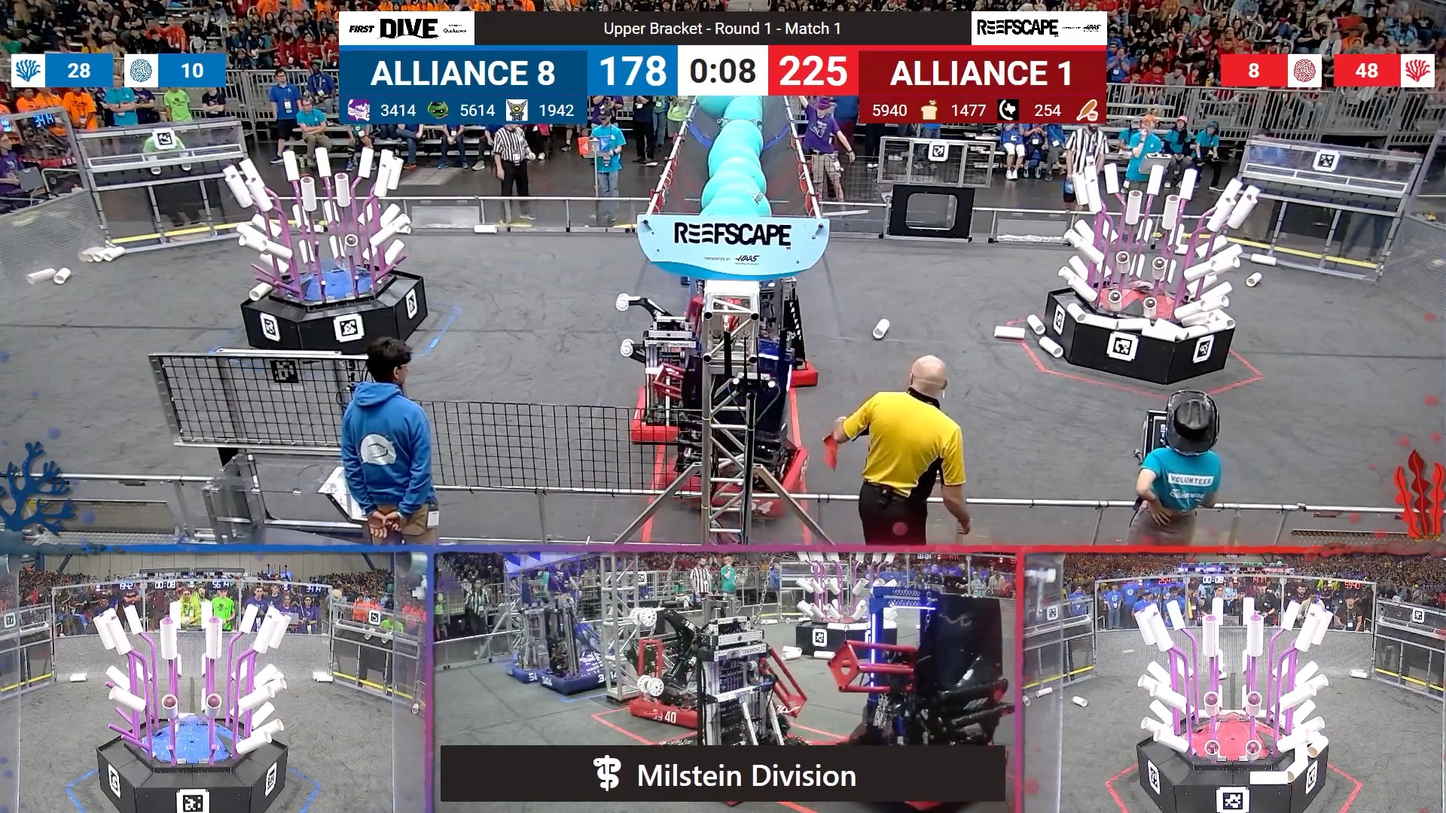bumpers: (649, 433, 820, 517), (626, 691, 710, 727), (522, 666, 619, 697), (779, 356, 828, 396), (504, 662, 556, 683)
